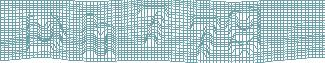7: (134, 2, 172, 50), (189, 13, 222, 61)
D: (23, 11, 67, 56)
g: (225, 6, 260, 57)
h: (80, 10, 118, 60)
